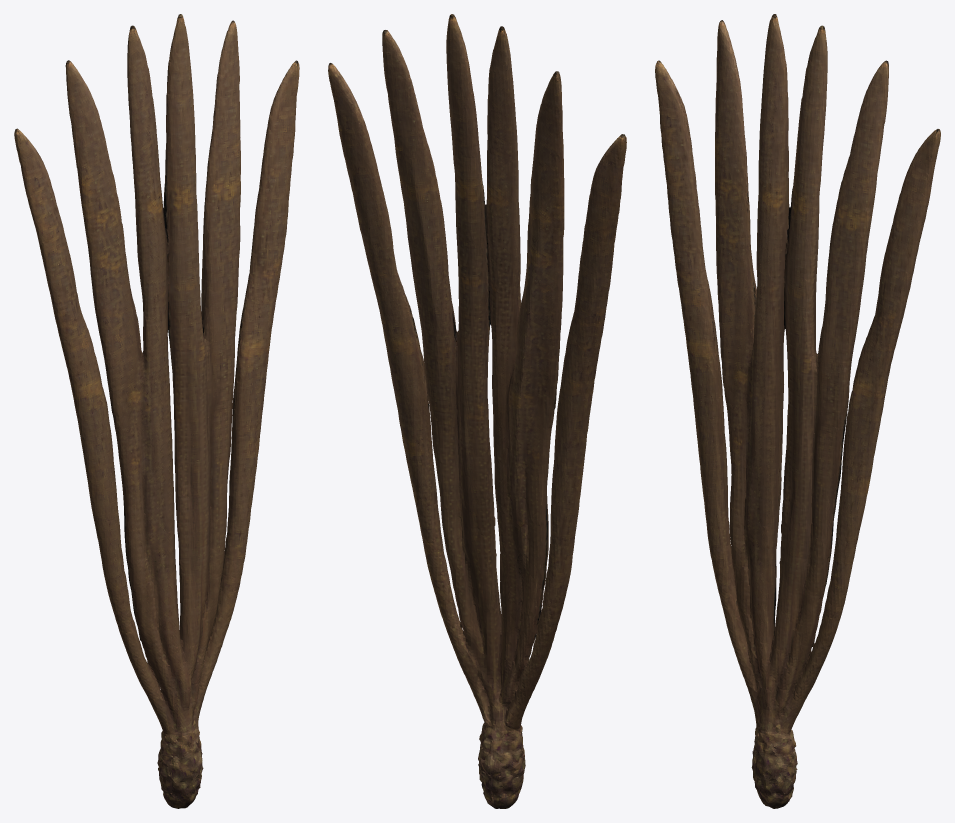
3 views of the same model, side by side, from view 1: azimuth 30°, elevation 25°; view 2: azimuth 150°, elevation 25°; view 3: azimuth 330°, elevation 25° (orthographic). The views are drawn at different scales.
Parts seen in each view (by area): view 1: world; view 2: world; view 3: world.
Part boxes in pixels (x1,y1,x2,y2): world: [14, 14, 299, 808]; world: [328, 14, 626, 808]; world: [655, 14, 940, 808].
Bounding box in the file's own units: 0.3862 × 1 × 0.0987.
Materials: 1 (1 with a texture image).
